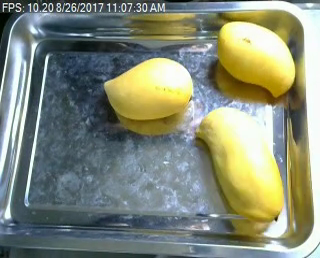Mango: (196, 104, 287, 226), (216, 20, 299, 100), (102, 56, 197, 122)
